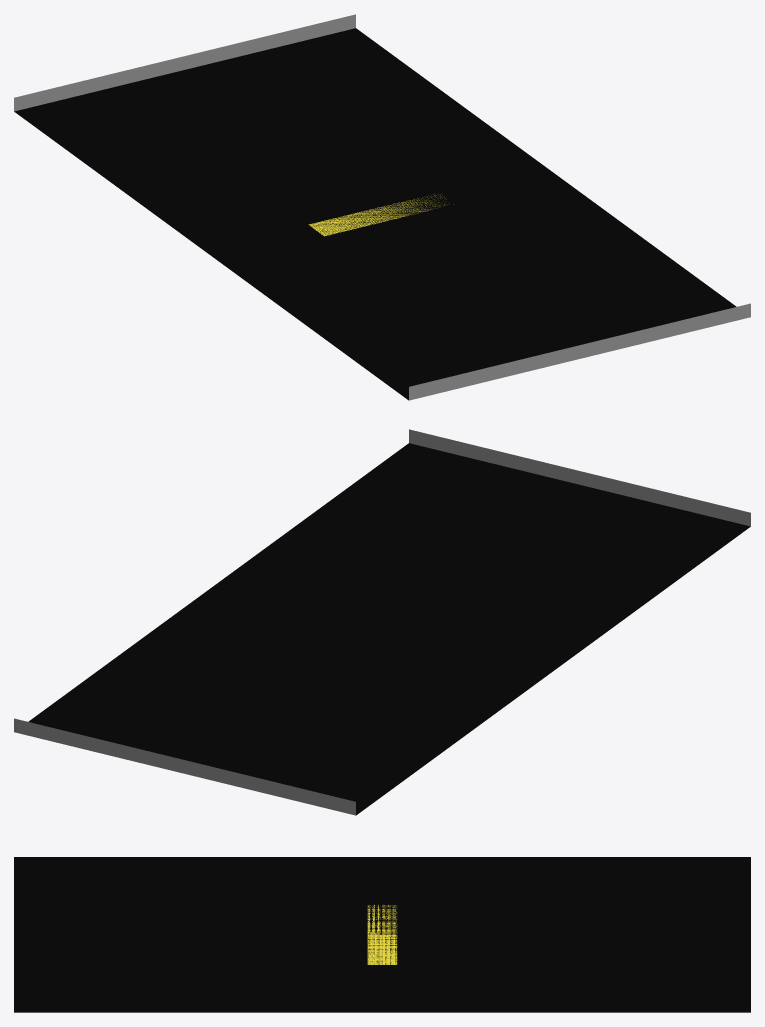
The model's file is lp-rua.gltf.
3 views of the same model, one above another, from view 1: azimuth 30°, elevation 25°; view 2: azimuth 150°, elevation 25°; view 3: azimuth 270°, elevation 25° (orthographic). The views are drawn at different scales.
Parts seen in each view (by area): view 1: rua; view 2: rua; view 3: rua.
Boxes of the visible parts, <box> form: rua: <box>14,14,750,400</box>; rua: <box>14,429,750,815</box>; rua: <box>14,857,750,1012</box>.
Bounding box in the file's own units: 2 × 0.0771 × 4.
1 material, 1 textured.
